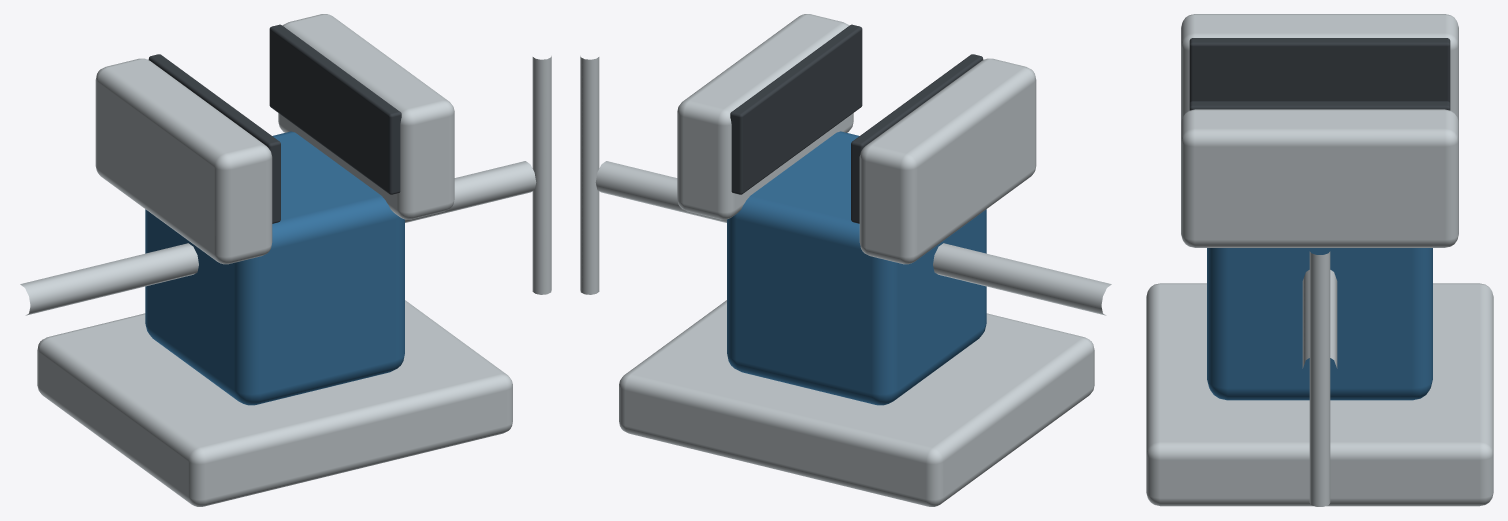
Rendered from fencing-club-and-tournament-piste-blade-repair-vise-2c123b3d__31235.glb.
3 renders of one model, left to right at view 1: azimuth 30°, elevation 25°; view 2: azimuth 150°, elevation 25°; view 3: azimuth 270°, elevation 25°, orthographic. The views are drawn at different scales.
Visible parts, largest first — view 1: blade-repair-vise; view 2: blade-repair-vise; view 3: blade-repair-vise.
Boxes of the visible parts, bbox=[...] form: blade-repair-vise: bbox=[20, 14, 551, 506]; blade-repair-vise: bbox=[580, 14, 1111, 506]; blade-repair-vise: bbox=[1146, 14, 1493, 506].
Size of the model in its own units: 0.3757 by 0.225 by 0.2.
